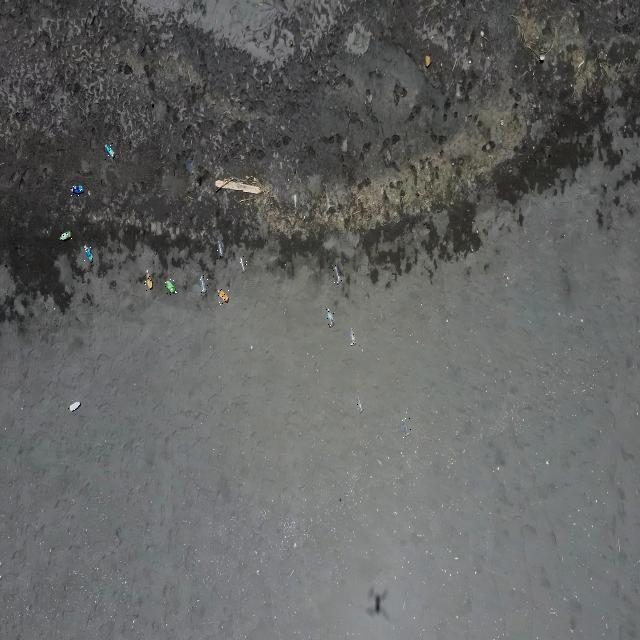plastic-bottle: (217, 288, 230, 305), (143, 270, 153, 292), (82, 242, 92, 262), (165, 279, 177, 295), (68, 400, 82, 413), (105, 143, 115, 160), (71, 183, 84, 196), (60, 231, 72, 244)
takeaway-cup: (333, 265, 343, 286), (199, 275, 208, 295), (326, 309, 335, 329), (402, 418, 411, 438), (187, 156, 196, 175), (216, 239, 224, 259), (356, 396, 364, 414), (240, 256, 247, 274), (350, 327, 356, 347)
